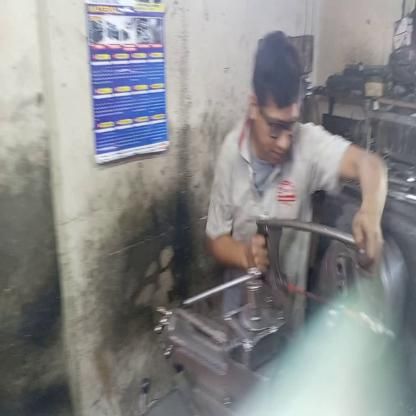lentes: (259, 100, 300, 140)
